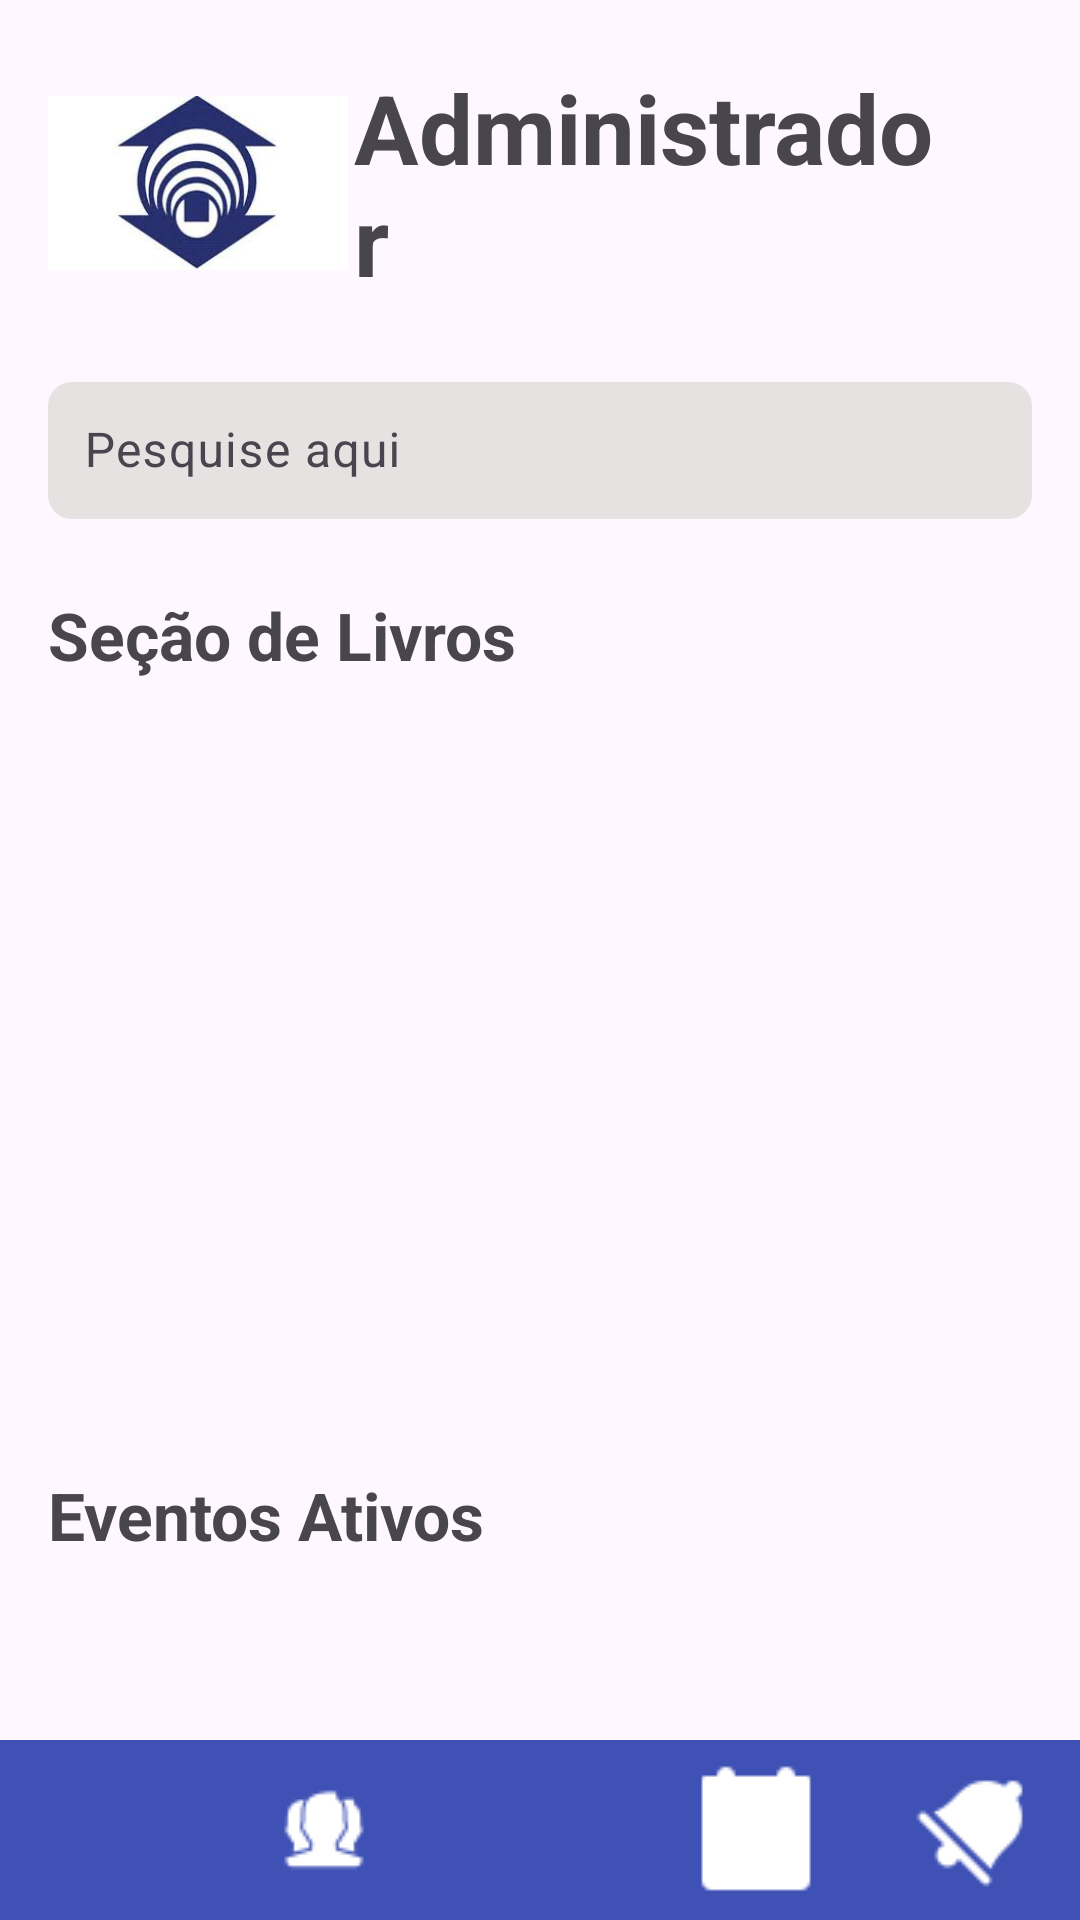

Icon click points for this 1080 × 1920 phone screenshot, format (x,y):
Abrir perfil do usuário: (324,1829)
Ver eventos: (756,1828)
